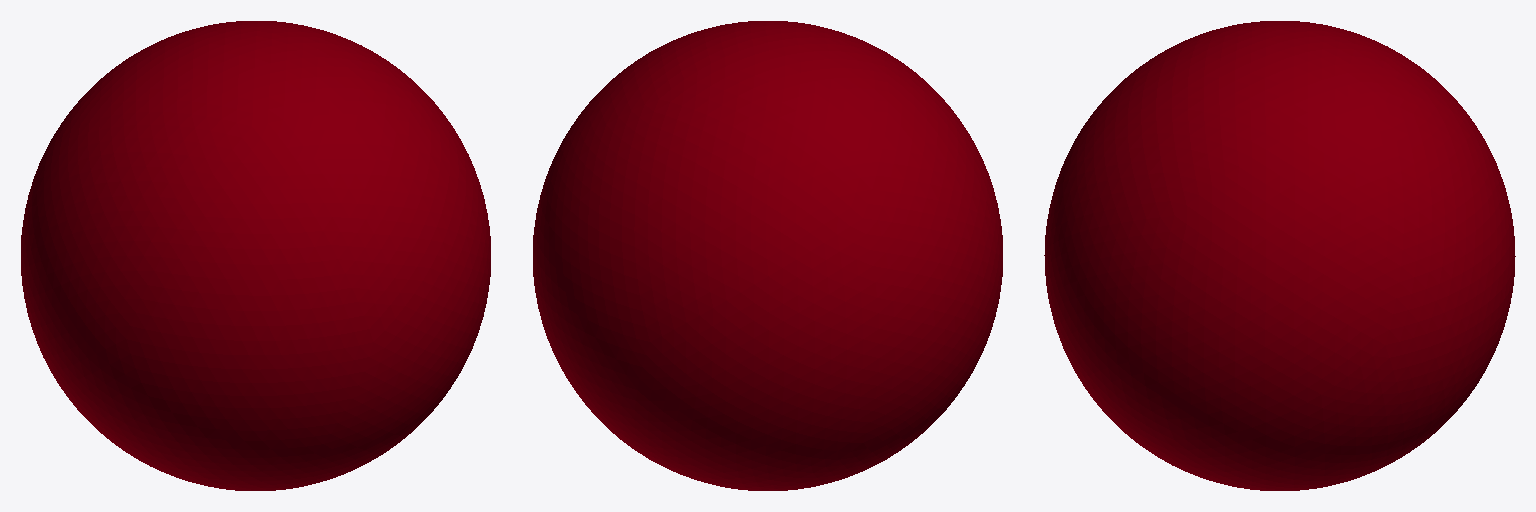
The model's file is bille.obj.
The picture shows the model from 3 angles: view 1: azimuth 30°, elevation 25°; view 2: azimuth 150°, elevation 25°; view 3: azimuth 270°, elevation 25°; orthographic projection.
Parts seen in each view (by area): view 1: Object.1; view 2: Object.1; view 3: Object.1.
Boxes of the visible parts, x1,y1,x2,y2 form: Object.1: [21, 21, 490, 490]; Object.1: [533, 21, 1002, 490]; Object.1: [1044, 21, 1515, 490].
Bounding box in the file's own units: 7.44 × 7.44 × 7.44.